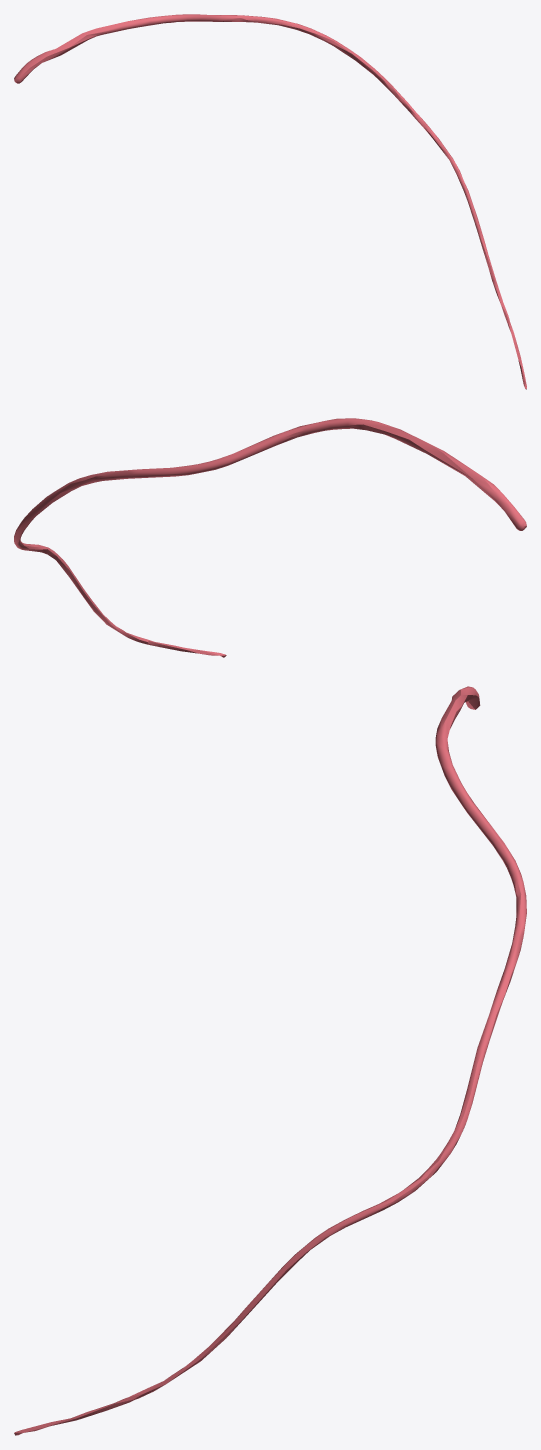
The model's file is fma68068_fj3448.glb.
The picture shows the model from 3 angles, top to bottom: view 1: azimuth 30°, elevation 25°; view 2: azimuth 150°, elevation 25°; view 3: azimuth 270°, elevation 25°; orthographic projection. The views are drawn at different scales.
Visible parts, largest first — view 1: FMA68068_FJ3448; view 2: FMA68068_FJ3448; view 3: FMA68068_FJ3448.
Boxes of the visible parts, left/top/right/bottom form: FMA68068_FJ3448: left=14, top=14, right=526, bottom=389; FMA68068_FJ3448: left=14, top=418, right=526, bottom=657; FMA68068_FJ3448: left=14, top=686, right=526, bottom=1435.
Size of the model in its own units: 0.0887 by 0.0708 by 0.0635.
